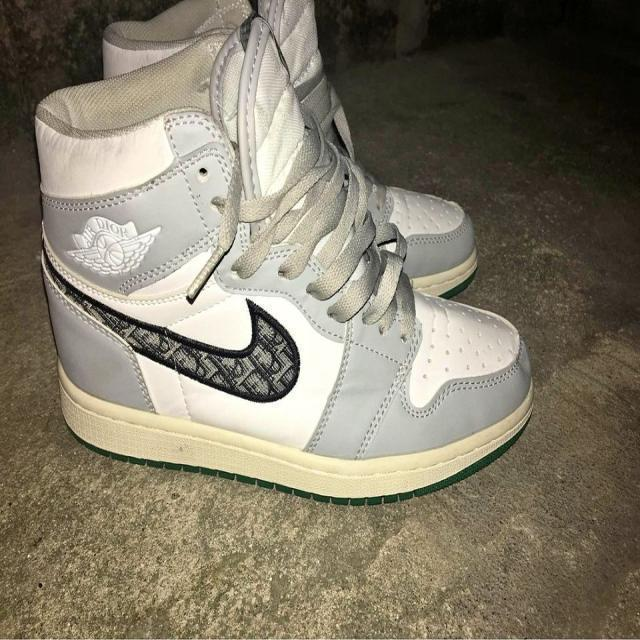nike fake jordan 1: (11, 14, 538, 508)
